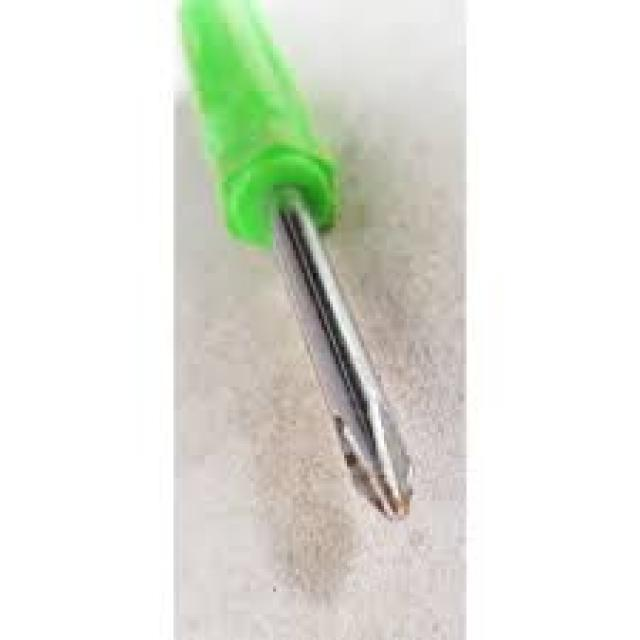screwdriver: (174, 0, 418, 526)
